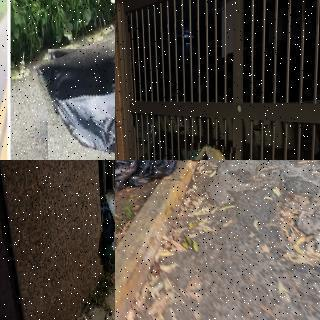Garbage: (40, 43, 115, 160), (98, 197, 115, 266), (135, 160, 177, 185), (115, 160, 136, 191)
